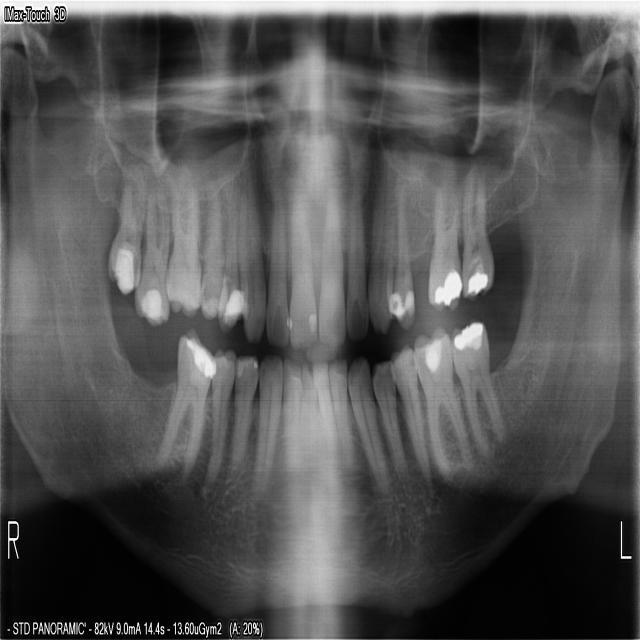LCD: (343, 350, 395, 503)
LCU: (365, 133, 397, 338)
LIU: (315, 165, 346, 350), (344, 163, 368, 341)
LMD: (410, 317, 474, 486), (448, 310, 505, 464)
LMU: (458, 150, 497, 307), (425, 151, 462, 315)
LPMD: (388, 337, 432, 484), (369, 355, 411, 492)
LPMU: (382, 150, 415, 335)
RCD: (222, 350, 258, 491)
RCU: (233, 144, 266, 349)
RID: (245, 347, 281, 505), (279, 352, 301, 489)
RIU: (286, 167, 318, 355), (263, 163, 289, 353)
RMD: (149, 319, 216, 486)
RMU: (162, 153, 205, 322), (130, 175, 170, 333), (103, 171, 145, 300)
RPMD: (196, 342, 237, 497)
RPMU: (213, 154, 249, 341), (196, 158, 228, 323)
